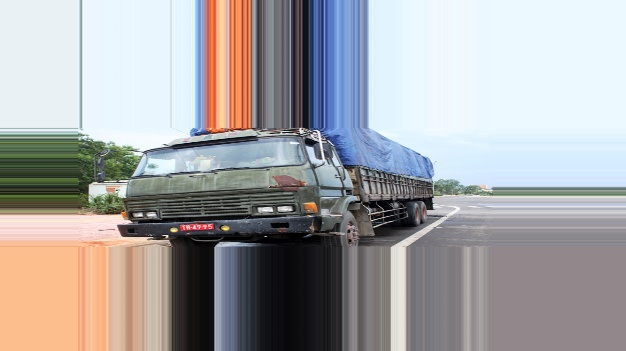plate: (179, 219, 218, 237)
